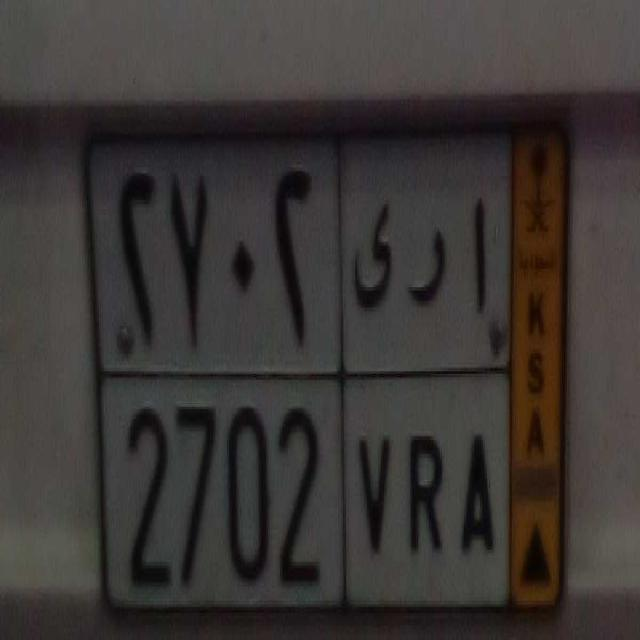license_plate: (100, 366, 510, 611)
